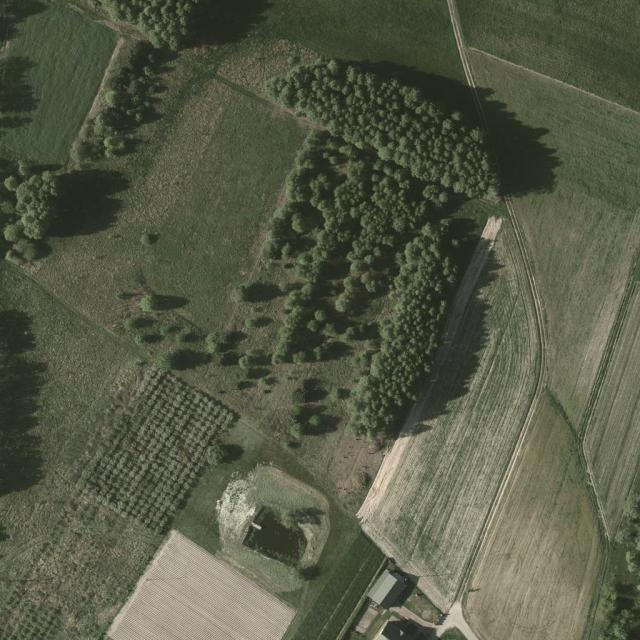greenland: (104, 12, 539, 492)
wetland: (239, 503, 319, 577)
